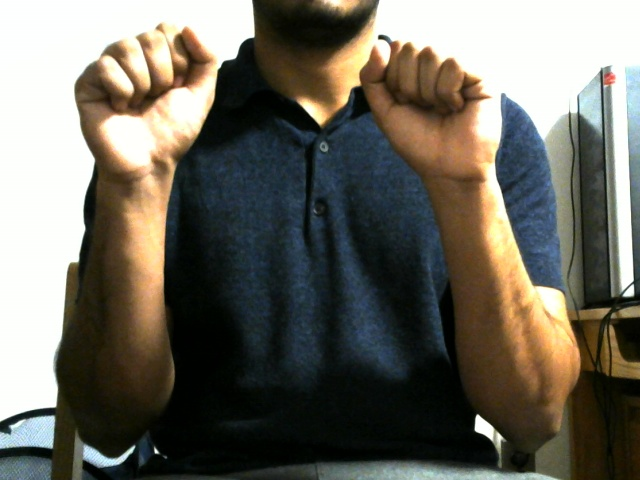can: (33, 11, 586, 428)
